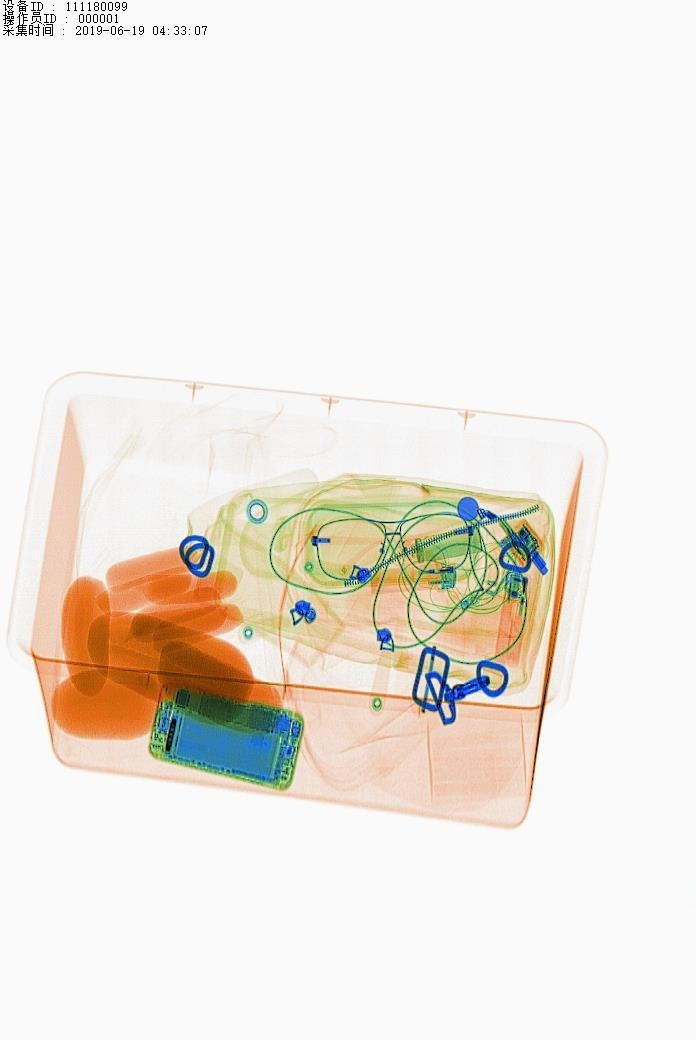NonmetallicFire: (354, 542, 461, 603), (485, 557, 536, 682)
